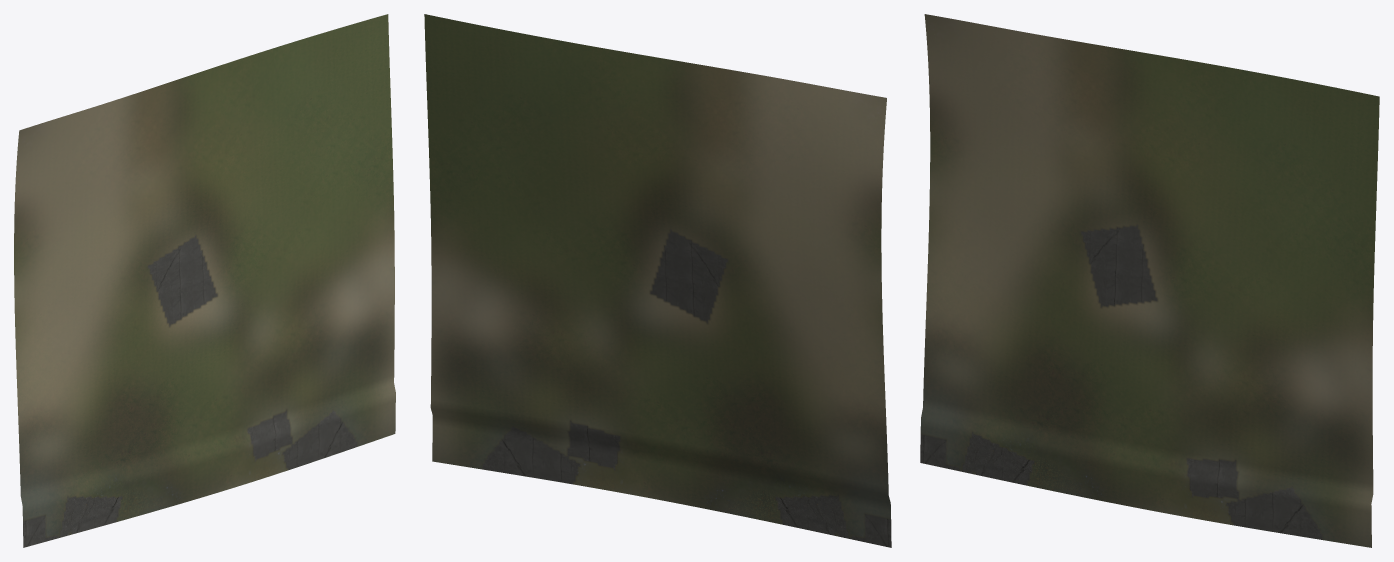
File: ground_core_04_06.obj
3 renders of one model, left to right at view 1: azimuth 30°, elevation 25°; view 2: azimuth 150°, elevation 25°; view 3: azimuth 330°, elevation 25°, orthographic. The views are drawn at different scales.
Visible parts, largest first — view 1: ground_core_04_06; view 2: ground_core_04_06; view 3: ground_core_04_06.
Boxes of the visible parts, bbox=[...] form: ground_core_04_06: bbox=[14, 14, 395, 547]; ground_core_04_06: bbox=[424, 14, 891, 547]; ground_core_04_06: bbox=[920, 14, 1379, 547].
Bounding box in the file's own units: 50 × 50 × 6.81.
1 material, 1 textured.
